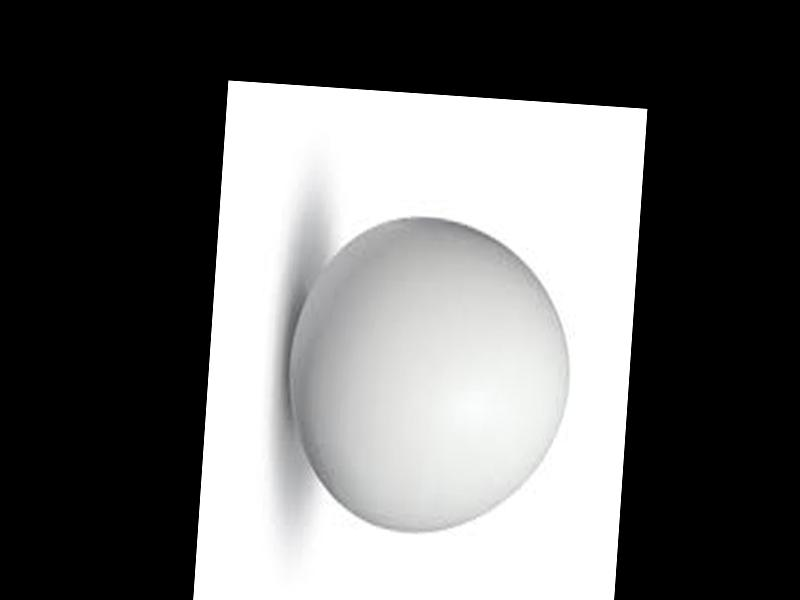Eggs: (280, 214, 581, 541)
